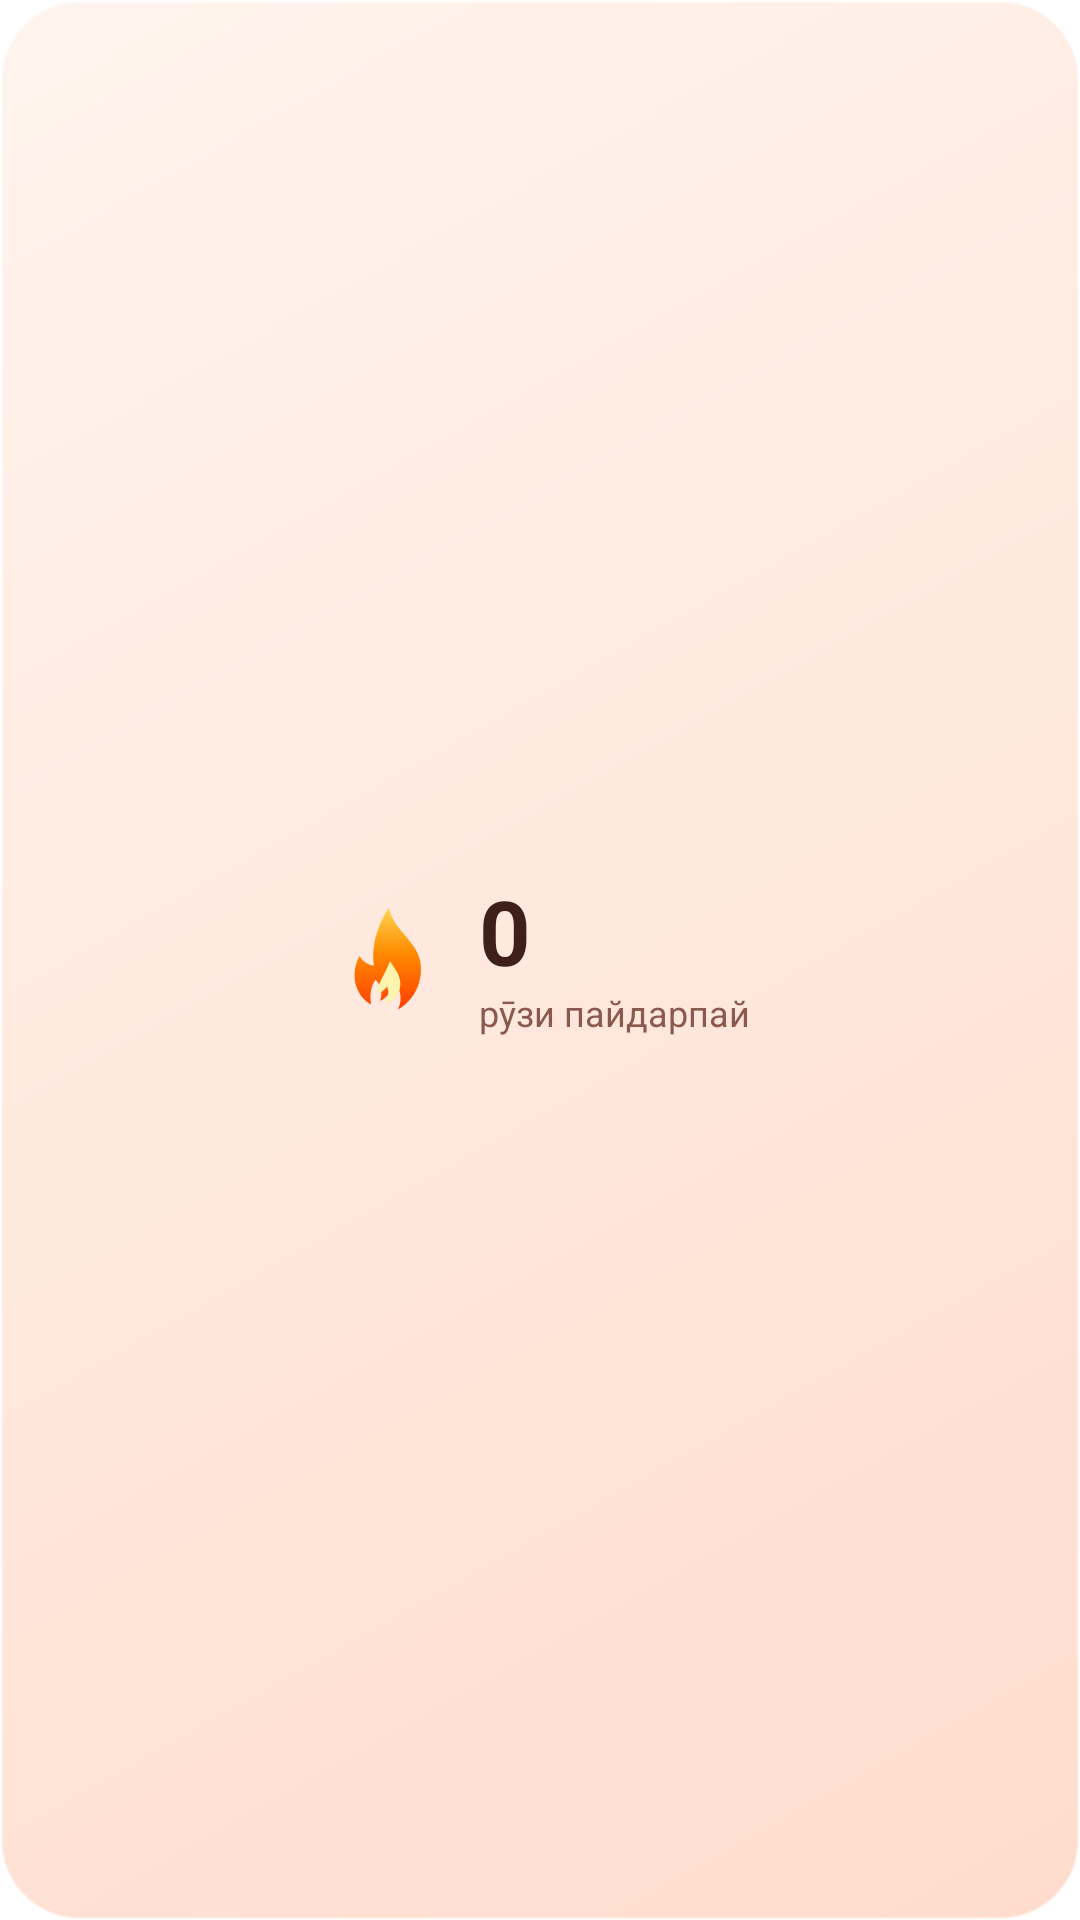

Where to tap for icons on this 1080w x 1920h app screen, as (x,y):
widget flame: (387,959)
